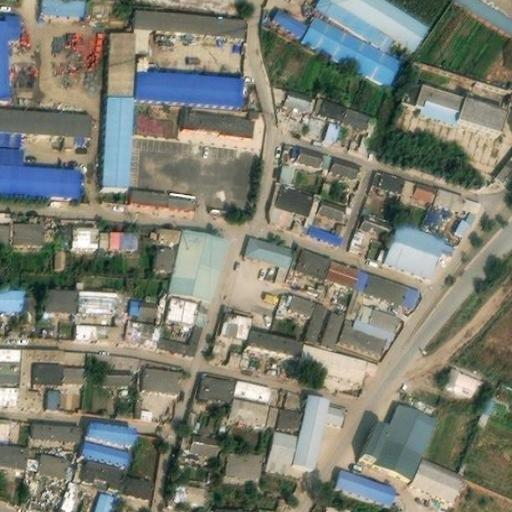building: (271, 4, 399, 78), (361, 398, 439, 471), (133, 47, 244, 93), (134, 4, 245, 48), (344, 262, 425, 316), (169, 226, 226, 295), (294, 389, 346, 462), (387, 217, 453, 271), (336, 295, 395, 352), (317, 0, 393, 42), (409, 449, 470, 500), (298, 337, 366, 378), (103, 87, 133, 178), (77, 283, 125, 336), (22, 344, 87, 381), (229, 373, 277, 423), (244, 232, 295, 279), (267, 177, 322, 220), (332, 462, 395, 499), (415, 76, 465, 120), (350, 204, 400, 245), (456, 90, 507, 130), (422, 180, 461, 229), (306, 92, 347, 137), (183, 105, 257, 129), (107, 25, 135, 88), (249, 323, 304, 354), (0, 7, 19, 91), (273, 384, 308, 427), (81, 432, 133, 460), (80, 450, 124, 483), (273, 283, 315, 317), (224, 442, 262, 479), (85, 416, 137, 443), (267, 423, 300, 465), (159, 316, 202, 348), (164, 286, 207, 318), (98, 348, 138, 381), (151, 222, 180, 267), (194, 367, 236, 397), (396, 172, 436, 203), (126, 313, 163, 344), (303, 293, 329, 337), (137, 361, 182, 386), (281, 83, 318, 113), (223, 302, 258, 333), (295, 242, 332, 271), (133, 183, 196, 200), (31, 414, 79, 436), (470, 392, 499, 428), (291, 137, 328, 165), (213, 497, 281, 512), (454, 191, 480, 230), (183, 427, 222, 452), (169, 477, 208, 502), (341, 102, 377, 129), (444, 362, 478, 390), (320, 305, 345, 343), (28, 449, 71, 471), (118, 469, 155, 494), (131, 109, 174, 130), (326, 254, 360, 280), (95, 224, 137, 245), (310, 211, 343, 237), (42, 283, 77, 306), (373, 163, 405, 188), (317, 192, 349, 216), (57, 479, 79, 512), (329, 150, 360, 173), (0, 285, 24, 314), (131, 292, 158, 317), (70, 220, 96, 245), (494, 148, 512, 182), (16, 215, 42, 238), (90, 487, 113, 512), (132, 405, 155, 423), (49, 247, 65, 271), (278, 161, 297, 181), (43, 389, 60, 411), (323, 500, 350, 512), (39, 0, 85, 6)
